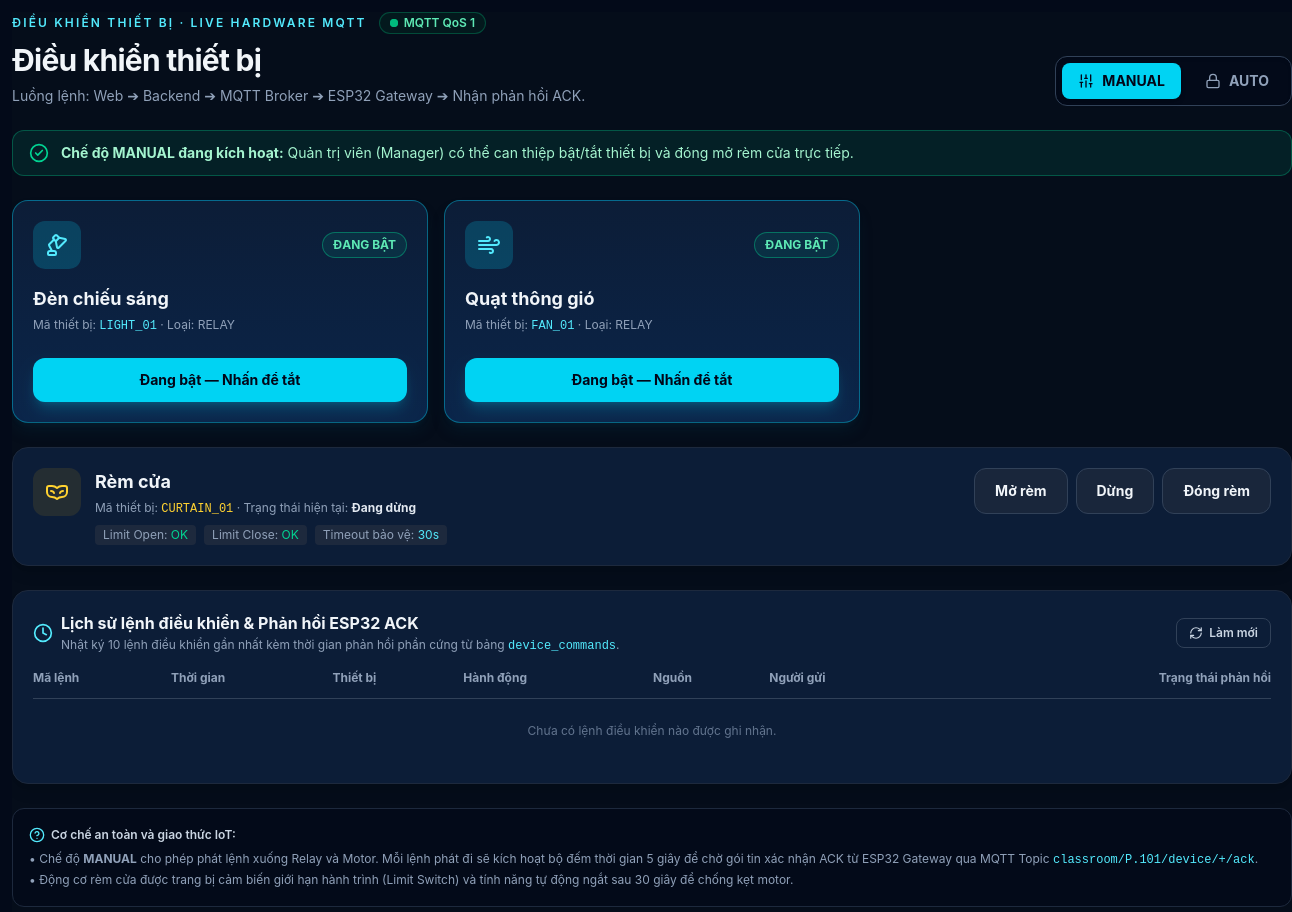
Test: DeviceControlPage › renders device control page and handles mode switching
This screenshot has width=1292, height=912.
expect the heading "Đèn chiếu sáng" is shown: met, box top-left (33, 288), bottom-right (169, 309)
Click AUTO mode button
Click the button "AUTO" at point(1237, 81), box top-left (1189, 63), bottom-right (1285, 99)
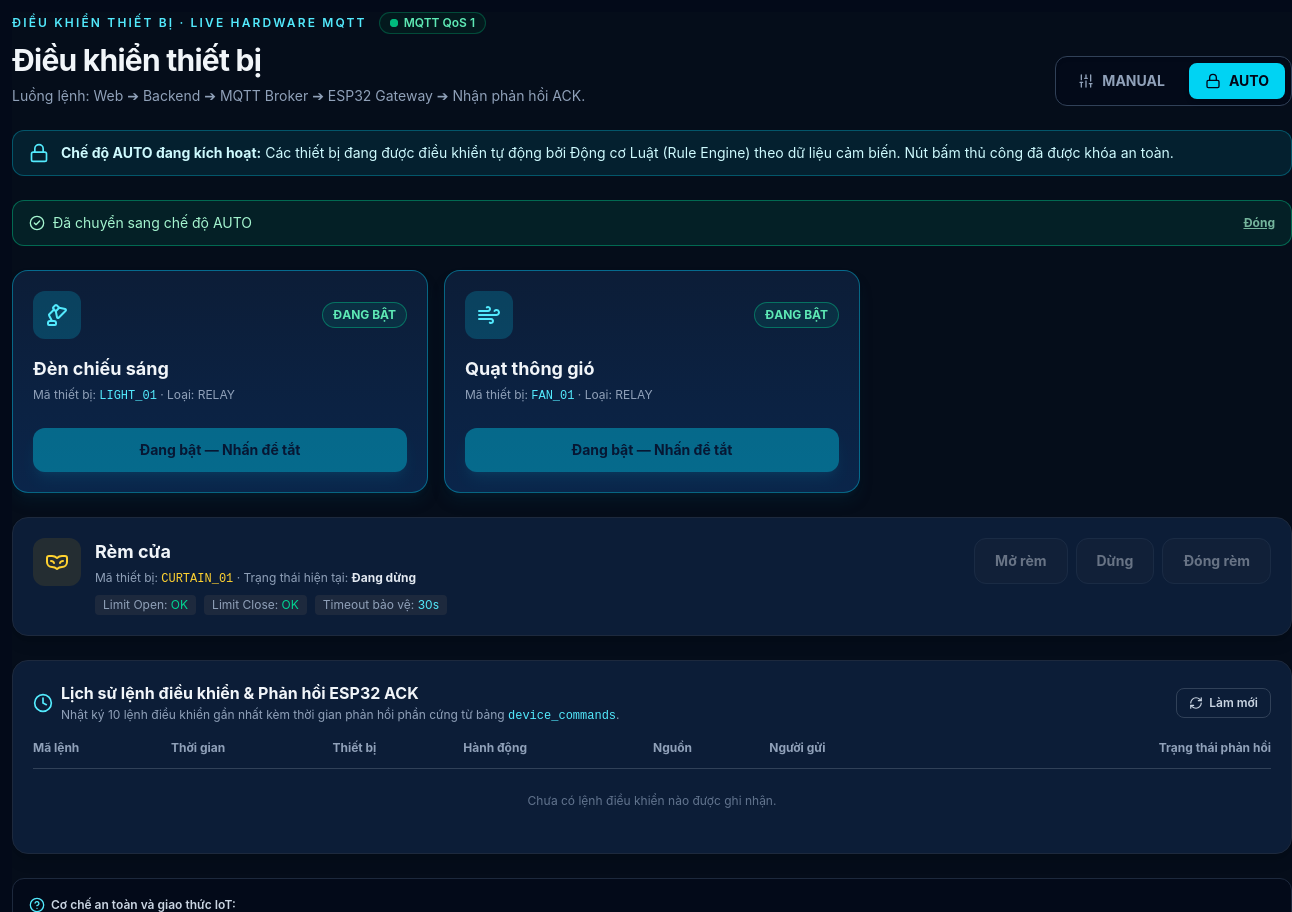
expect the text "Chế độ AUTO đang kích hoạt:" is shown: met, box top-left (61, 144), bottom-right (261, 161)
